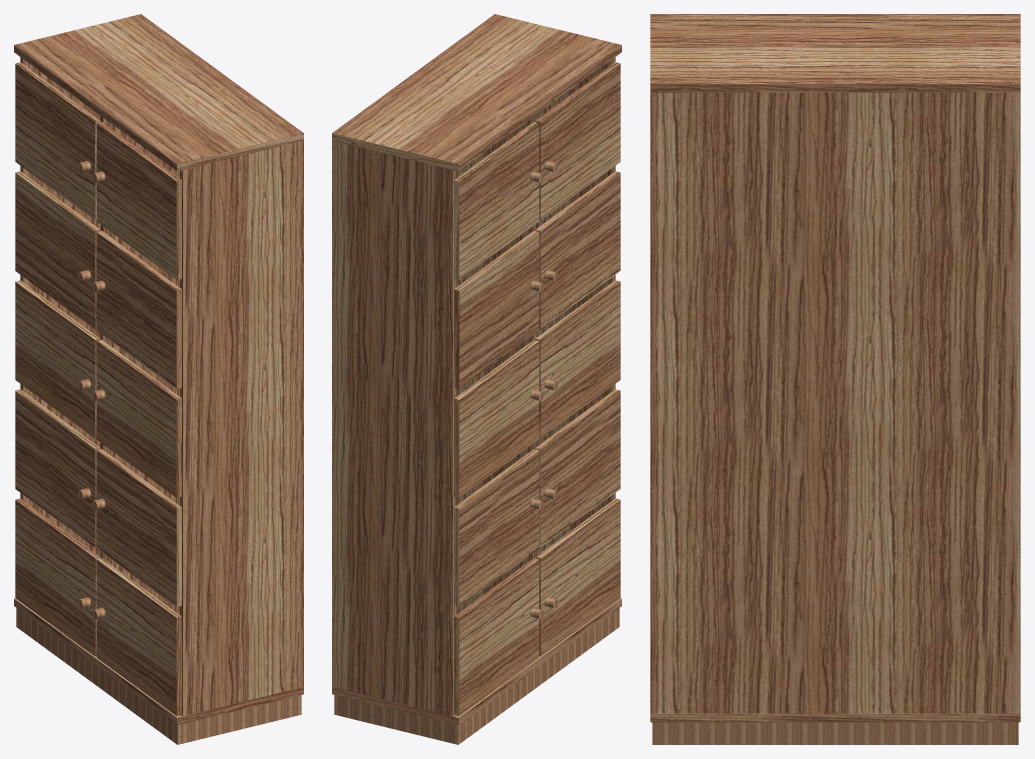
Rendered from baseline_5OH_45x100_safe_deposit_cabinetfinala.fbx.
3 views of the same model, side by side, from view 1: azimuth 30°, elevation 25°; view 2: azimuth 150°, elevation 25°; view 3: azimuth 270°, elevation 25° (orthographic). The views are drawn at different scales.
Parts seen in each view (by area): view 1: drewno_mesh (×11), metal_mesh; view 2: drewno_mesh (×11), metal_mesh; view 3: drewno_mesh, metal_mesh.
Boxes of the visible parts, left/top/right/bottom form: drewno_mesh (×11): left=14, top=14, right=303, bottom=724; metal_mesh: left=16, top=608, right=301, bottom=744; drewno_mesh (×11): left=332, top=14, right=621, bottom=724; metal_mesh: left=334, top=608, right=619, bottom=744; drewno_mesh: left=650, top=14, right=1020, bottom=722; metal_mesh: left=652, top=722, right=1018, bottom=744.
Bounding box in the file's own units: 3.09 × 12.72 × 6.45.
